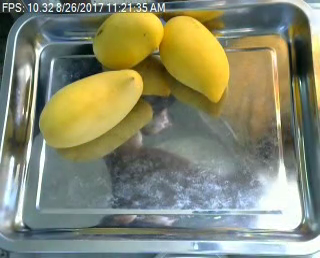Mango: (41, 69, 141, 148), (159, 17, 229, 105), (91, 8, 161, 68)
